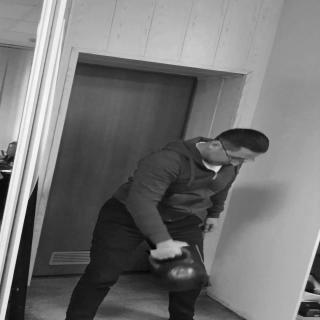kettlebell: (150, 247, 209, 292)
